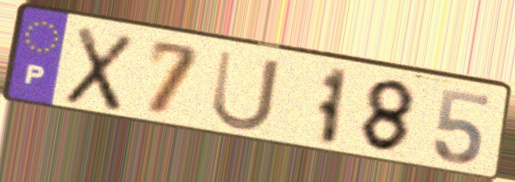1: (316, 65, 352, 151)
5: (430, 85, 492, 167)
7: (143, 37, 206, 119)
8: (355, 77, 421, 156)
U: (208, 47, 284, 134)
X: (61, 23, 138, 116)
